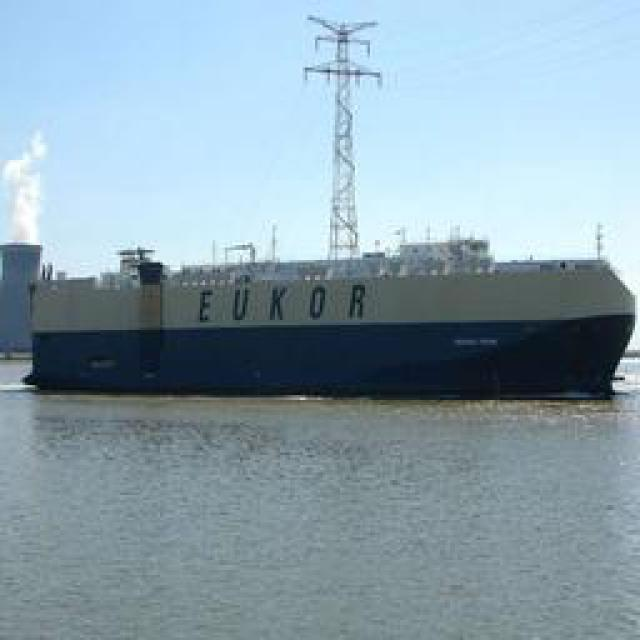Ship: (20, 251, 640, 401)
